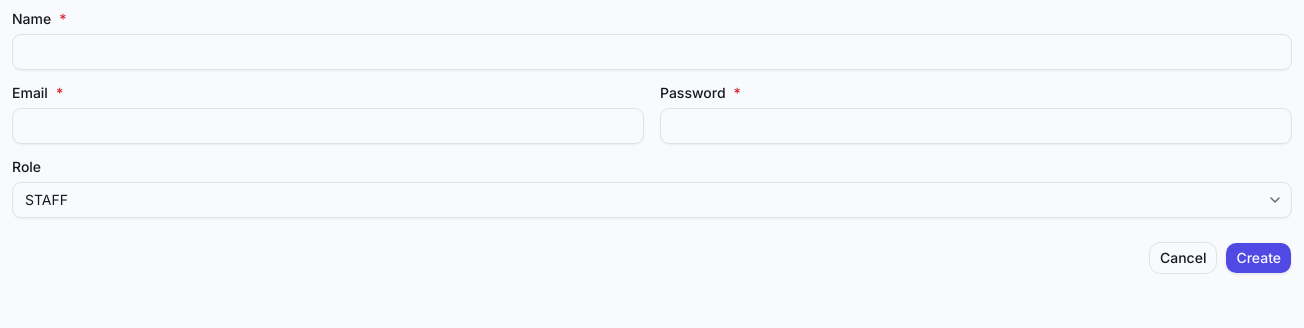
it: UserForm (create) › surfaces an inline error when the create fails
The width and height of the screenshot is (1304, 328).
Type "Dup User" into the field labelled "Name *".
click(652, 52); type("Dup User")  # box [12,34,1292,70]
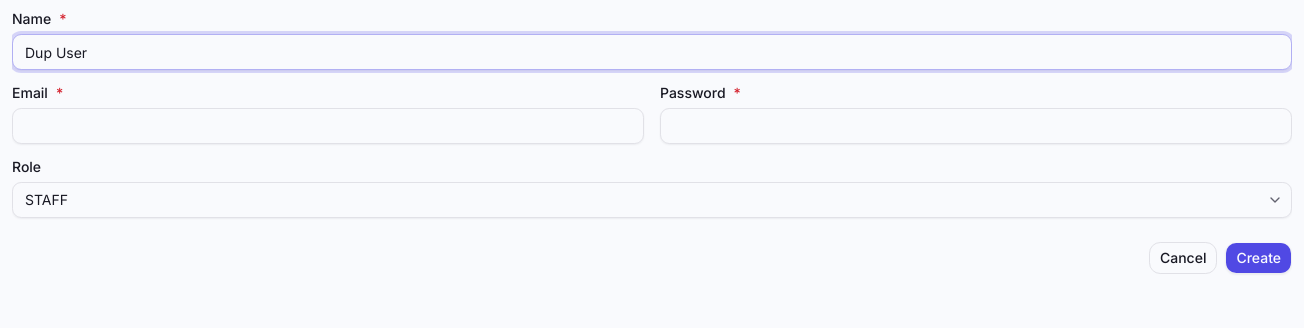
Type "dup@iws.local" into the field labelled "Email *".
click(328, 126); type("dup@iws.local")  # box [12,108,644,144]
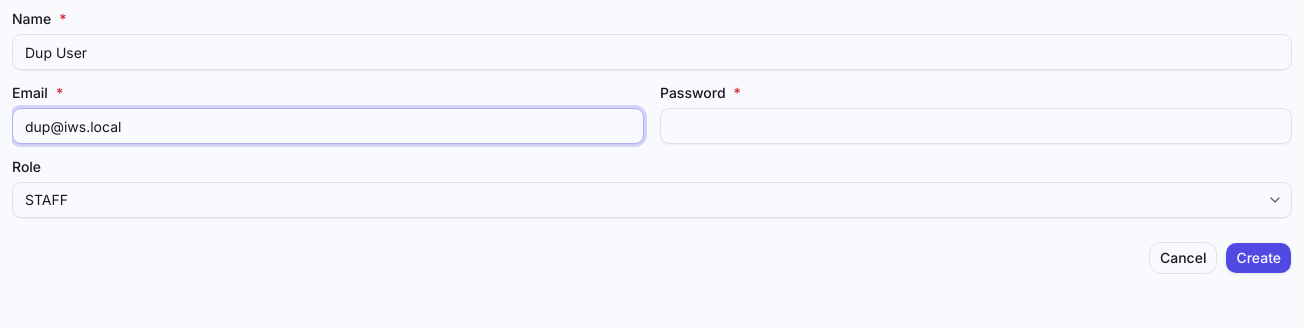
Type "Passw0rd!" into the password field labelled "Password *".
click(976, 126); type("Passw0rd!")  # box [660,108,1292,144]
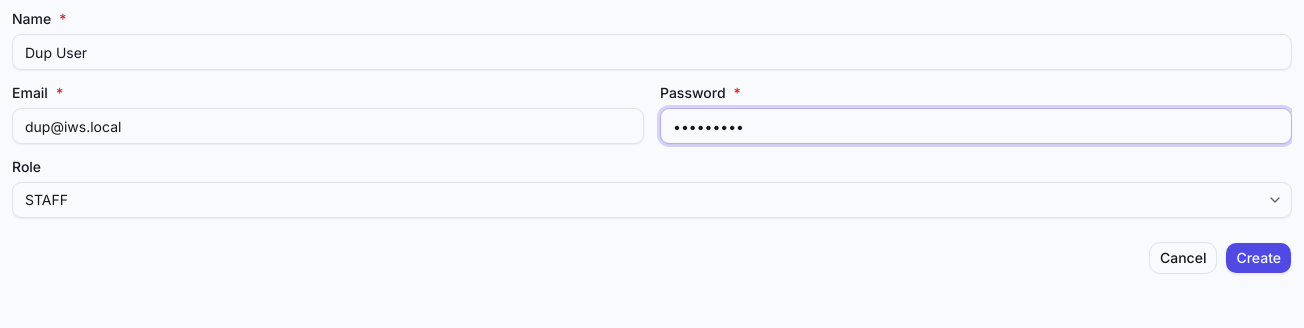
Click the button "Create".
click(1259, 258)  # box [1225,242,1292,274]
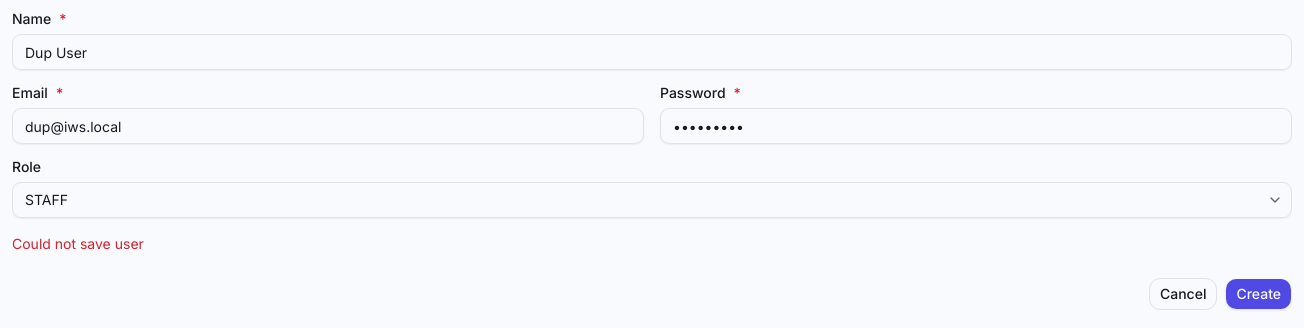
Check: the message "Could not save user" is shown, box [12,235,144,252]
